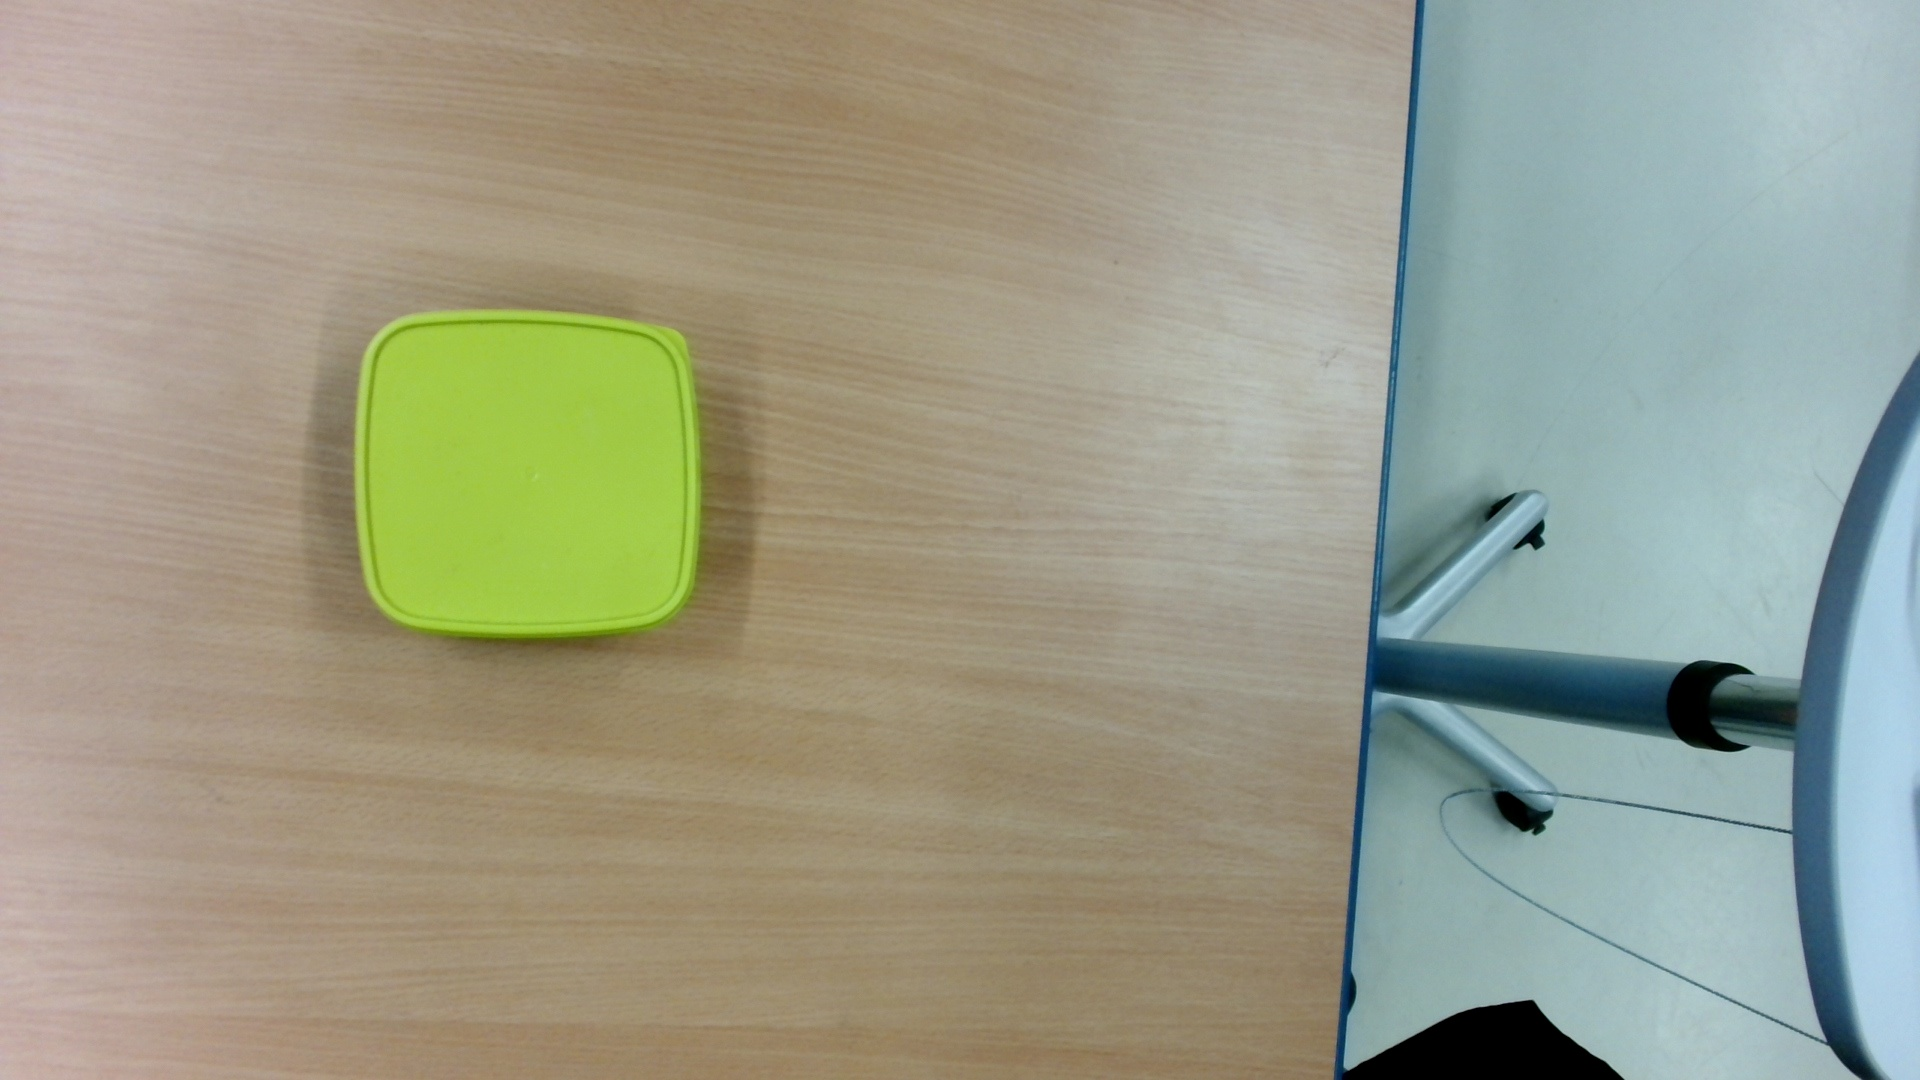Box: (347, 301, 708, 646)
